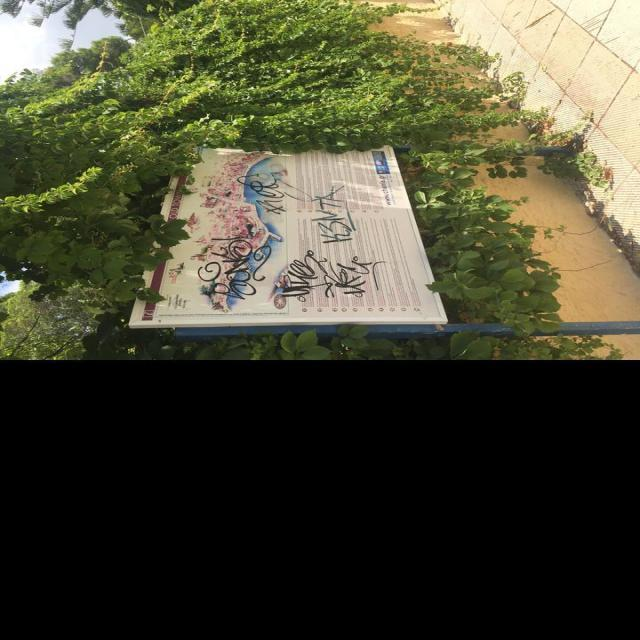nonspitting: (280, 250, 387, 302), (197, 237, 271, 300), (311, 186, 357, 243), (238, 172, 286, 215)
